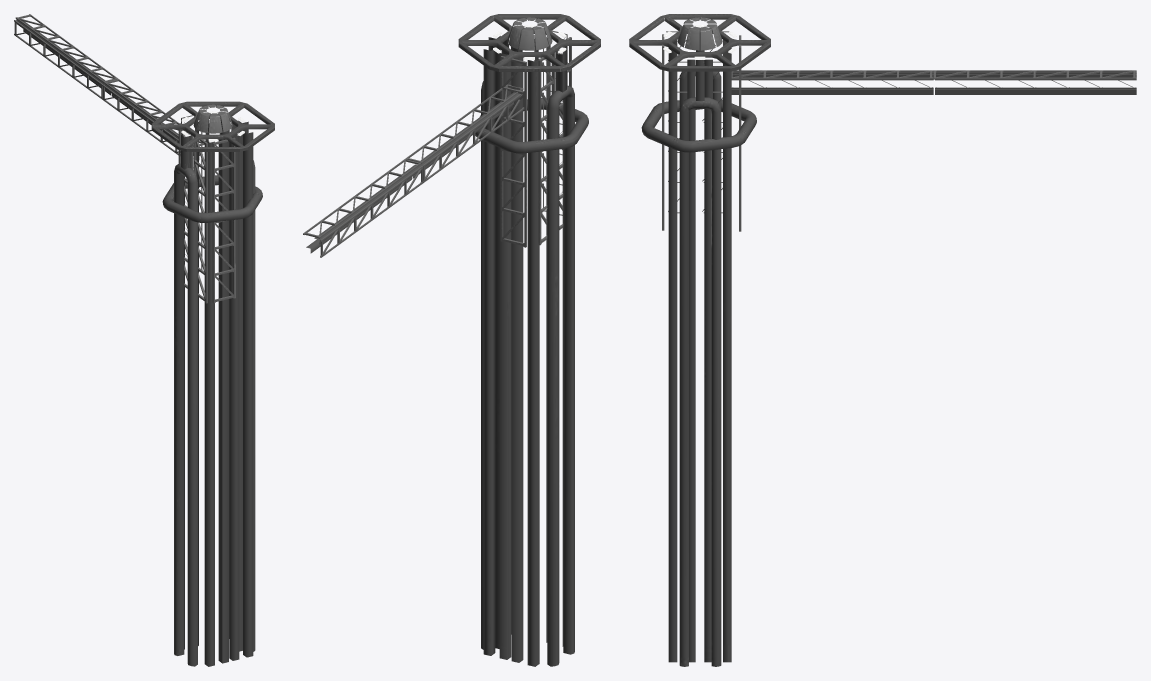
The model's file is bottom.glb.
The picture shows the model from 3 angles, left to right: view 1: azimuth 30°, elevation 25°; view 2: azimuth 150°, elevation 25°; view 3: azimuth 270°, elevation 25°; orthographic projection. The views are drawn at different scales.
Visible parts, largest first — view 1: Circle.008_B; view 2: Circle.008_B; view 3: Circle.008_B.
Part boxes in pixels (left/top/right/bottom): Circle.008_B: left=14, top=14, right=274, bottom=666; Circle.008_B: left=303, top=14, right=600, bottom=666; Circle.008_B: left=629, top=14, right=1136, bottom=666.
Size of the model in its own units: 1.25 by 6.74 by 4.96.
Materials: 1 (1 with a texture image).
